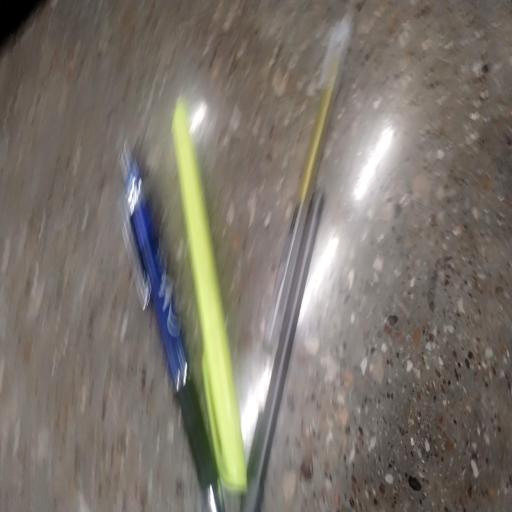pen: (241, 11, 353, 512), (121, 144, 223, 510), (172, 97, 247, 493)
